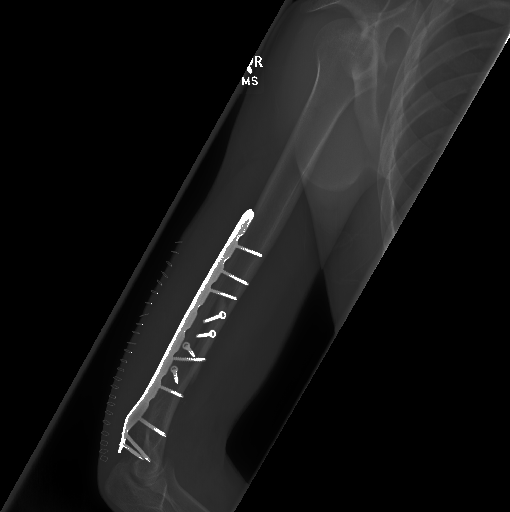implant: (111, 341, 207, 469), (188, 207, 267, 345)
